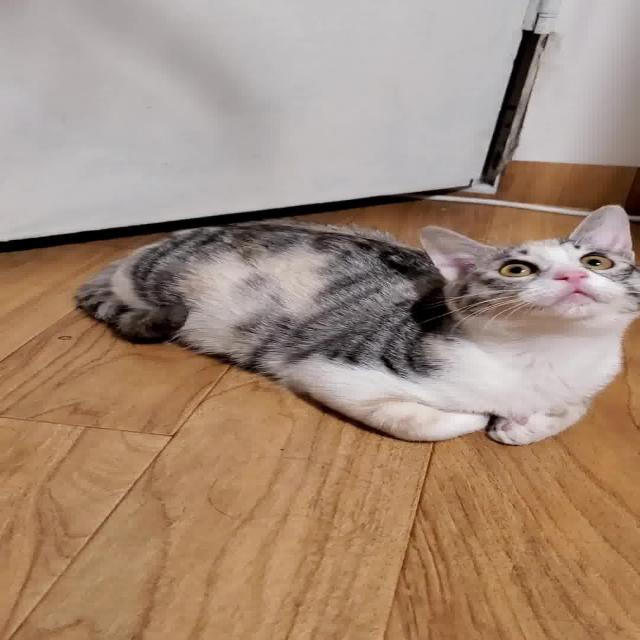cat: (77, 200, 640, 449)
